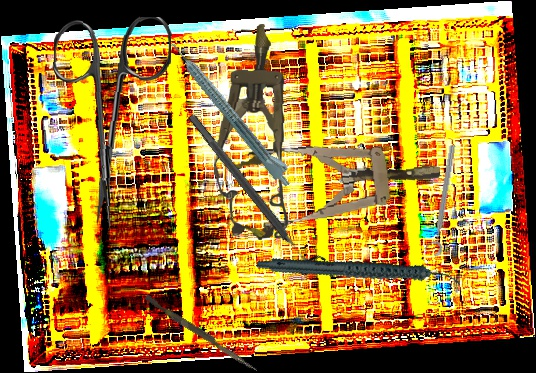Fixation Ring: (178, 105, 328, 280), (423, 143, 459, 257)
Handpiece: (255, 217, 463, 327), (167, 35, 299, 190)
Iris Scissors: (47, 13, 173, 228)
Pusher: (142, 294, 261, 373)
Speculum: (228, 128, 446, 243), (210, 22, 302, 241)
